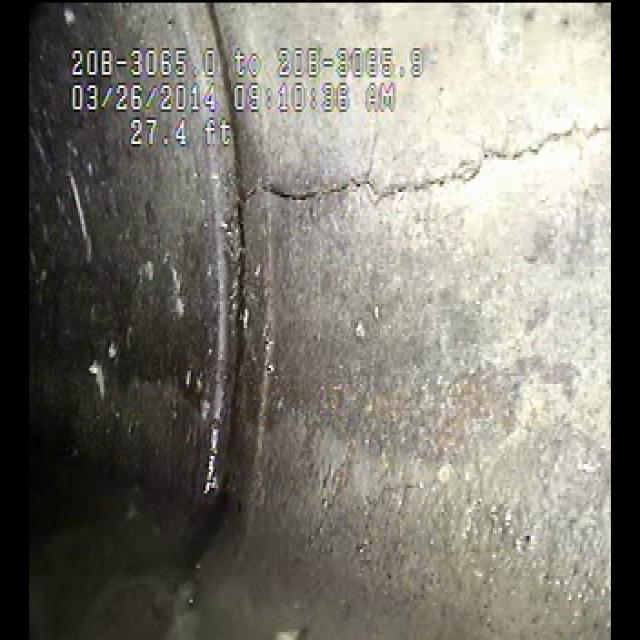Crack: (245, 127, 588, 236)
